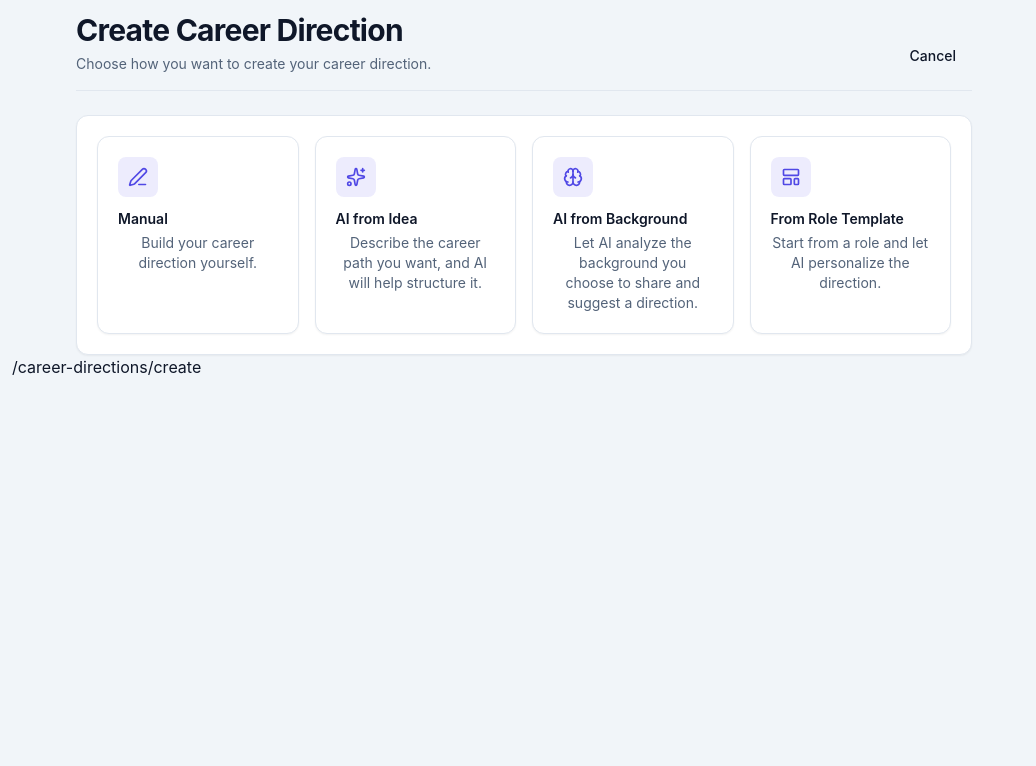
it: CareerDirectionCreatePage › From Role Template navigates to the template input step
Click the radio button labelled "From Role Template": (850, 235) [750, 136, 951, 334]
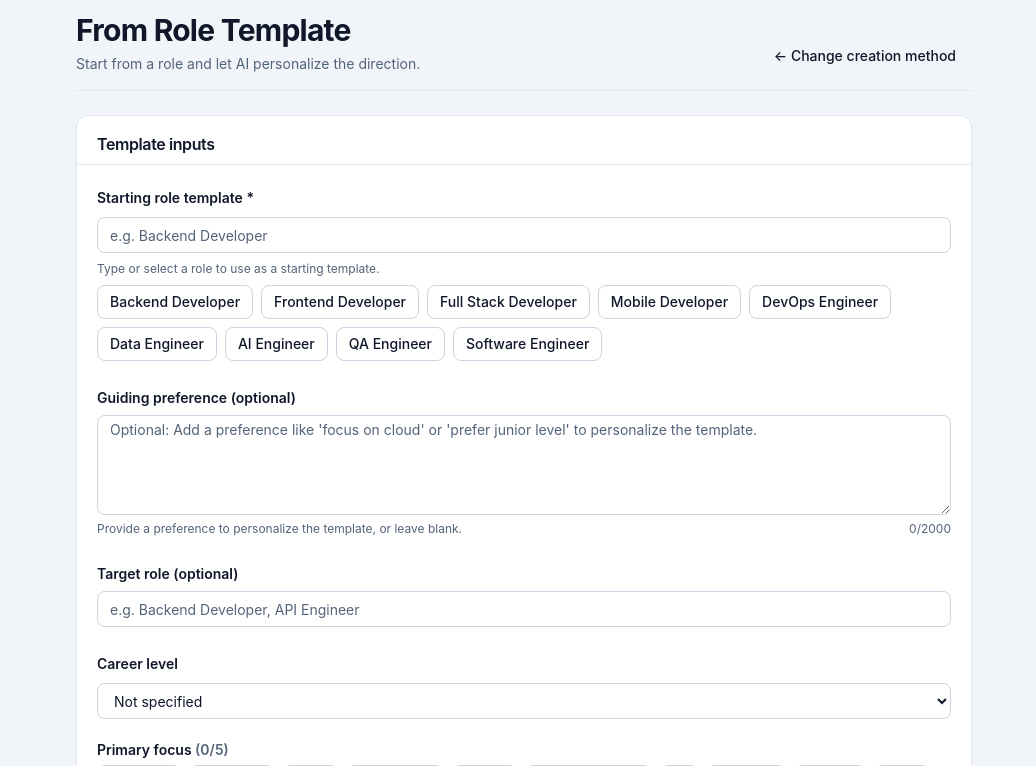
Expected: the heading "From Role Template" is shown, [76, 12, 351, 48]
Expected: the field labelled "Starting role template *" is shown, [97, 217, 951, 253]
